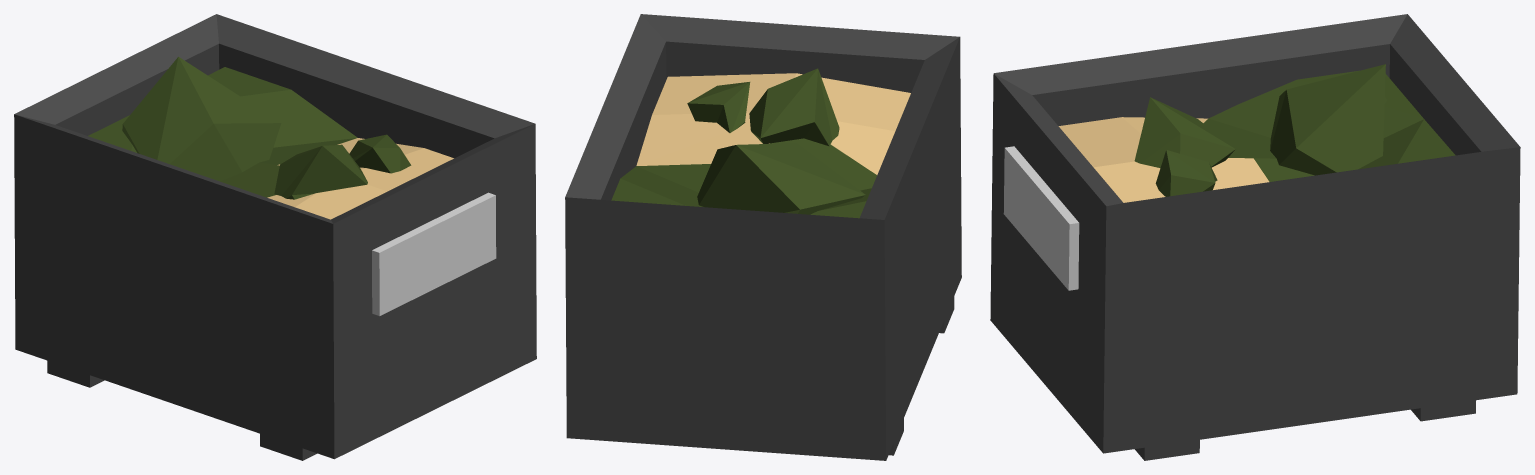
File: pot.glb
The picture shows the model from 3 angles, left to right: view 1: azimuth 30°, elevation 25°; view 2: azimuth 150°, elevation 25°; view 3: azimuth 270°, elevation 25°; orthographic projection. The views are drawn at different scales.
Parts seen in each view (by area): view 1: pot; view 2: pot; view 3: pot.
Boxes of the visible parts, x1,y1,x2,y2 form: pot: (14,14,536,460); pot: (565,14,961,460); pot: (990,14,1520,460).
Size of the model in its own units: 0.2412 by 0.1675 by 0.2768.
